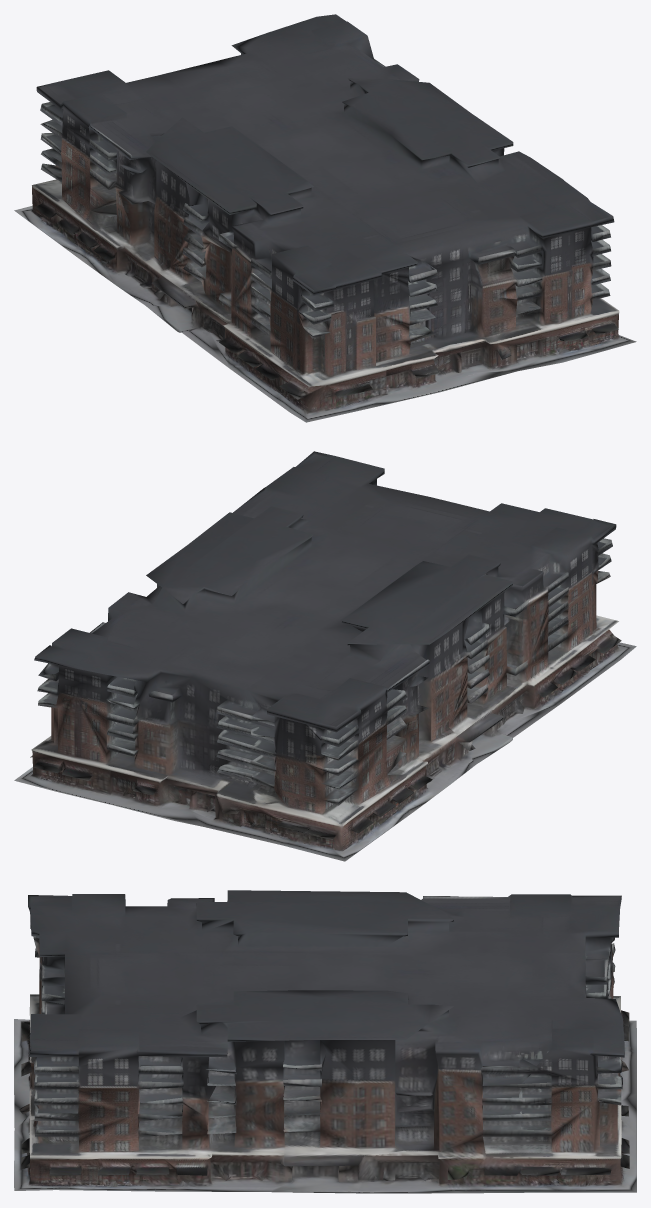
The model's file is building2.glb.
The picture shows the model from 3 angles, top to bottom: view 1: azimuth 30°, elevation 25°; view 2: azimuth 150°, elevation 25°; view 3: azimuth 270°, elevation 25°; orthographic projection. The views are drawn at different scales.
Visible parts, largest first — view 1: tripo_node_35ded4ba-f43e-4a61-aed9-803acdf4364c; view 2: tripo_node_35ded4ba-f43e-4a61-aed9-803acdf4364c; view 3: tripo_node_35ded4ba-f43e-4a61-aed9-803acdf4364c.
Part boxes in pixels (bbox=[...]): tripo_node_35ded4ba-f43e-4a61-aed9-803acdf4364c: bbox=[14, 14, 636, 422]; tripo_node_35ded4ba-f43e-4a61-aed9-803acdf4364c: bbox=[14, 451, 636, 861]; tripo_node_35ded4ba-f43e-4a61-aed9-803acdf4364c: bbox=[14, 890, 636, 1193].
Bounding box in the file's own units: 0.6586 × 0.2594 × 1.
Materials: 1 (1 with a texture image).
